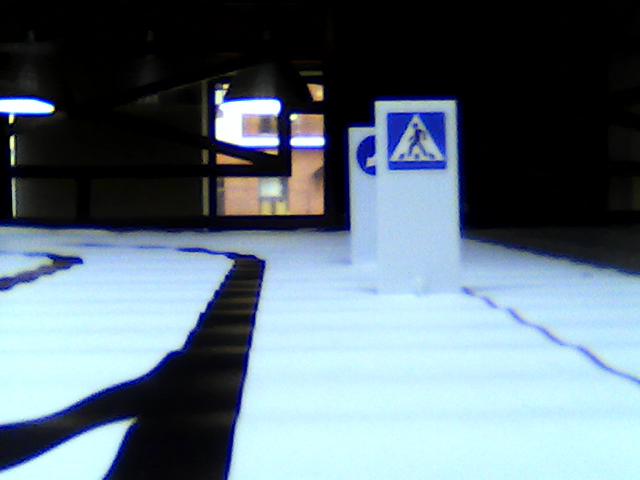pesh: (386, 111, 446, 170)
